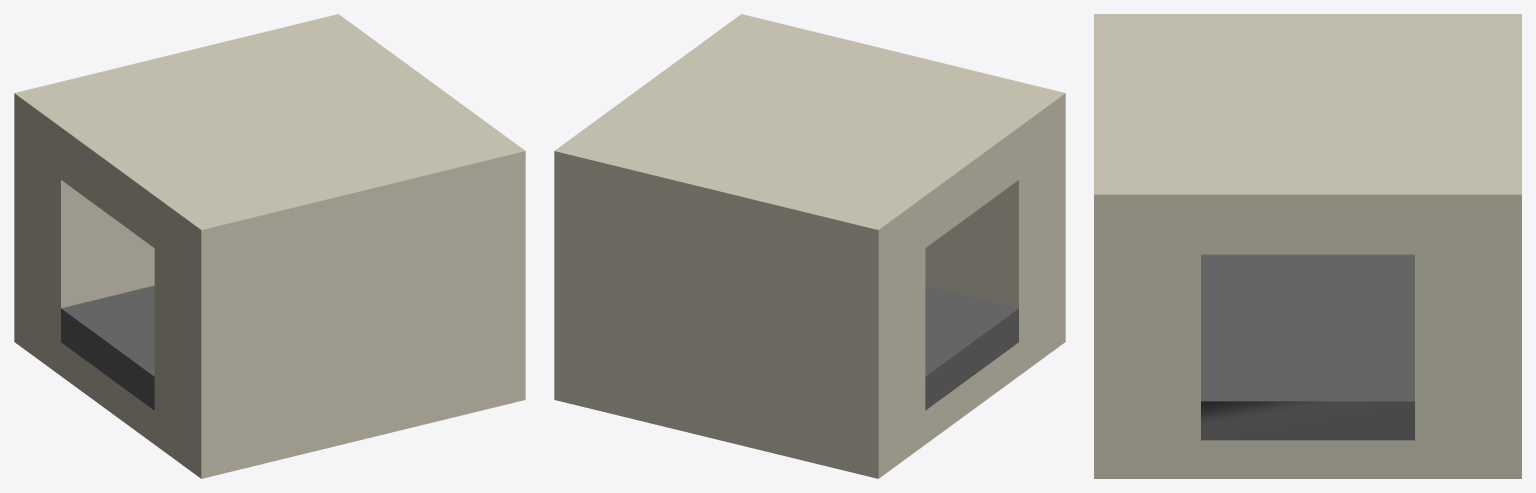
File: roadTile_223.obj
3 renders of one model, left to right at view 1: azimuth 30°, elevation 25°; view 2: azimuth 150°, elevation 25°; view 3: azimuth 270°, elevation 25°, orthographic. The views are drawn at different scales.
Visible parts, largest first — view 1: Mesh1_Group1_Model.078; view 2: Mesh1_Group1_Model.078; view 3: Mesh1_Group1_Model.078.
Part boxes in pixels (x1,y1,x2,y2): Mesh1_Group1_Model.078: (14, 14, 525, 478); Mesh1_Group1_Model.078: (554, 14, 1065, 478); Mesh1_Group1_Model.078: (1094, 14, 1521, 478).
Bounding box in the file's own units: 3 × 2.2 × 3.
